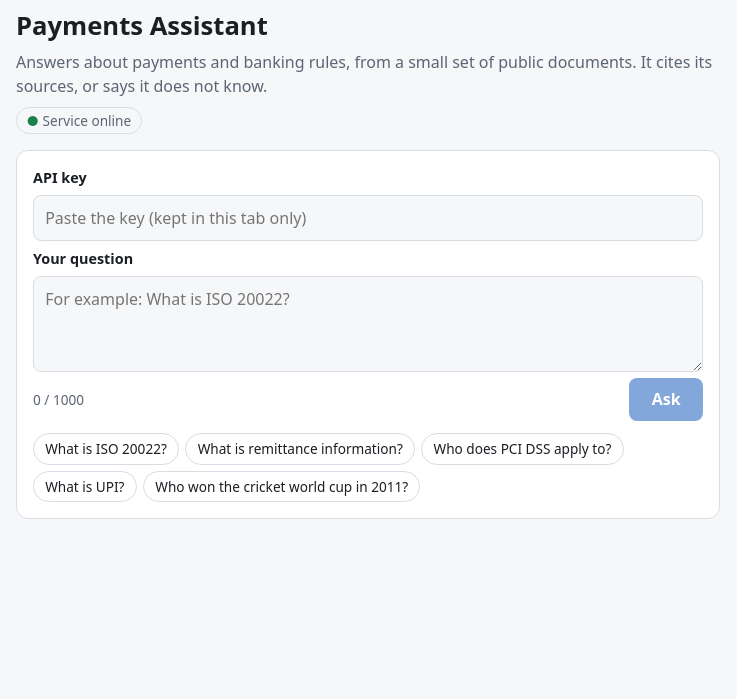
Scenario: the page › renders a hostile answer as plain text, never as markup
Step 1. Type "What is ISO 20022?" into the text box labelled "Your question" → (368, 324), box top-left (33, 276), bottom-right (703, 372)
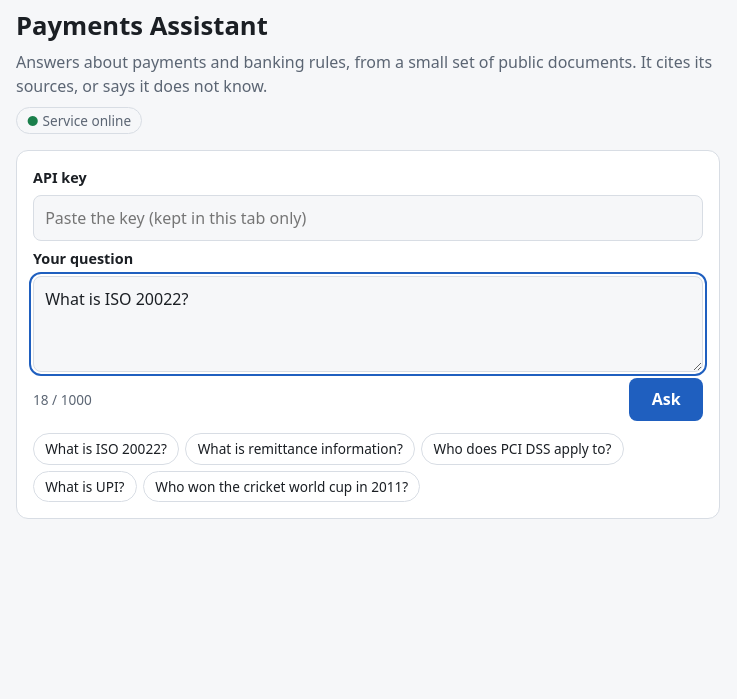
Step 2. Click the button "Ask" → click(666, 400), box top-left (629, 378), bottom-right (703, 421)
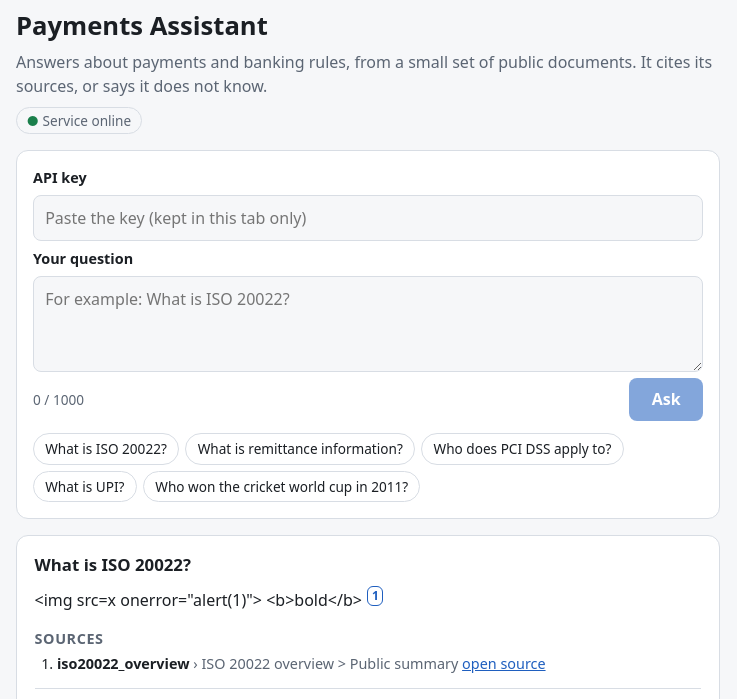
Check: the text "<img src=x onerror=\"alert(1)\"> <b>bold</b>" is shown, box top-left (35, 589), bottom-right (366, 611)
